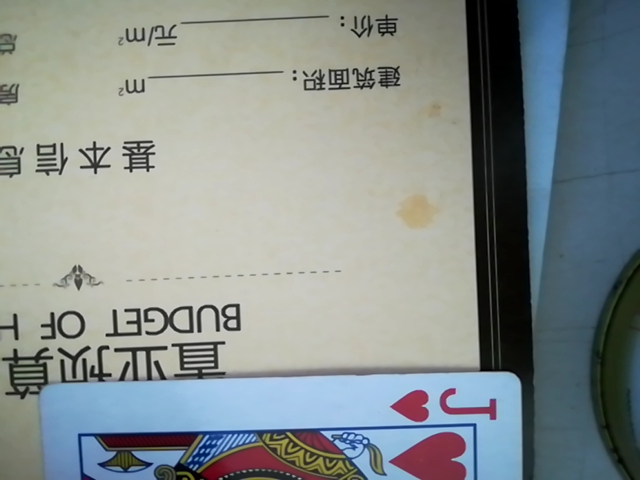hx j: (34, 370, 550, 480)
